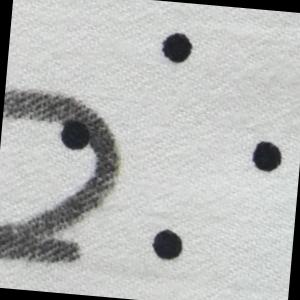Stain: (1, 81, 130, 274)
